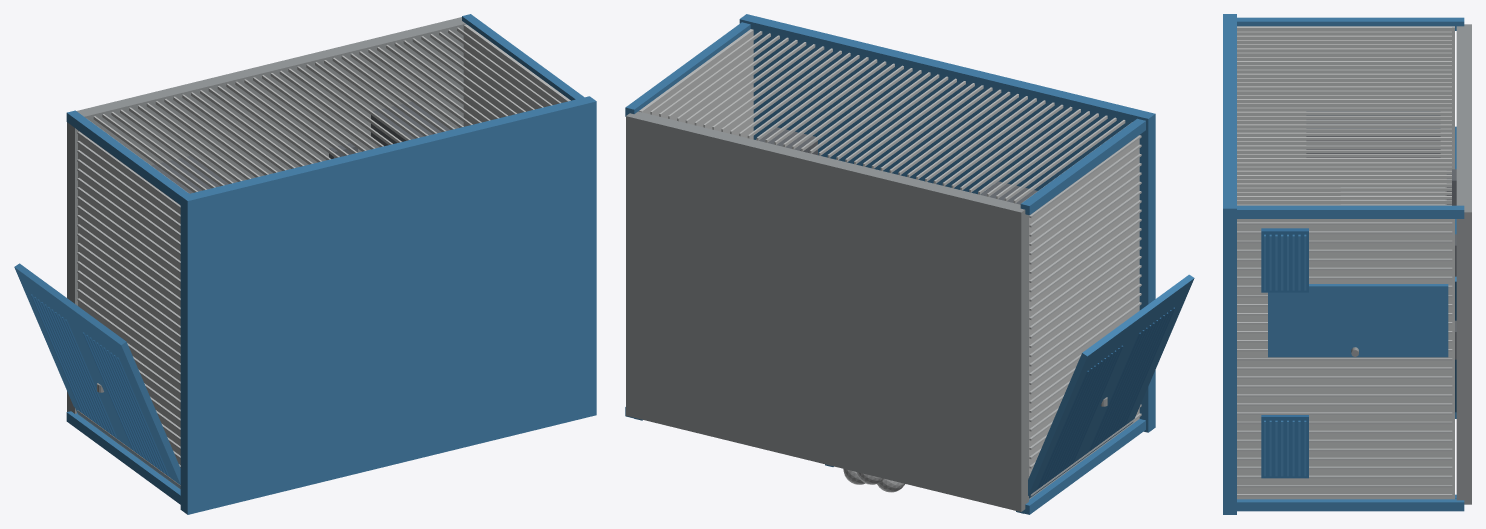
The model's file is kazakhtelecom_substation_open_smoke.glb.
3 views of the same model, side by side, from view 1: azimuth 30°, elevation 25°; view 2: azimuth 150°, elevation 25°; view 3: azimuth 270°, elevation 25° (orthographic). The views are drawn at different scales.
Parts seen in each view (by area): view 1: roof, floor steel plate, side wall -1, OPEN BLUE DOOR 1, side wall 1, corner post -2.9 2.1, corner post -2.9 -2.1, corner post 2.9 2.1, control cabinet 1, control cabinet 0; view 2: floor steel plate, roof, side wall -1, OPEN BLUE DOOR 1, side wall 1, corner post -2.9 2.1, corner post -2.9 -2.1, corner post 2.9 2.1; view 3: side wall 1, right personnel door, side wall -1, floor steel plate, roof, corner post 2.9 2.1, corner post 2.9 -2.1, wall vent base 1, wall vent base 0, corner post -2.9 2.1, control cabinet 0, back corrugation 2 (+66 smaller).
Part boxes in pixels (x1,y1,x2,y2): roof: (180, 96, 596, 514); floor steel plate: (67, 17, 465, 413); side wall -1: (78, 130, 180, 488); OPEN BLUE DOOR 1: (14, 263, 180, 487); side wall 1: (463, 24, 570, 126); corner post -2.9 2.1: (66, 110, 188, 204); corner post -2.9 -2.1: (66, 411, 180, 504); corner post 2.9 2.1: (462, 14, 584, 100); control cabinet 1: (371, 102, 450, 146); control cabinet 0: (151, 156, 228, 193); floor steel plate: (626, 111, 1028, 511); roof: (739, 14, 1155, 432); side wall -1: (1029, 135, 1139, 499); OPEN BLUE DOOR 1: (1028, 274, 1194, 498); side wall 1: (639, 29, 753, 139); corner post -2.9 2.1: (1020, 118, 1145, 215); corner post -2.9 -2.1: (1020, 419, 1145, 514); corner post 2.9 2.1: (625, 22, 750, 116); side wall 1: (1237, 219, 1454, 499); right personnel door: (1268, 284, 1448, 357); side wall -1: (1237, 26, 1454, 204); floor steel plate: (1456, 24, 1471, 504); roof: (1223, 14, 1236, 514); corner post 2.9 2.1: (1237, 205, 1464, 218); corner post 2.9 -2.1: (1237, 499, 1464, 511); wall vent base 1: (1261, 228, 1308, 292); wall vent base 0: (1261, 415, 1308, 478); corner post -2.9 2.1: (1237, 17, 1464, 30); control cabinet 0: (1306, 111, 1440, 157); back corrugation 2: (1237, 35, 1451, 39).
Size of the model in its own units: 6.84 by 4.84 by 3.24.
